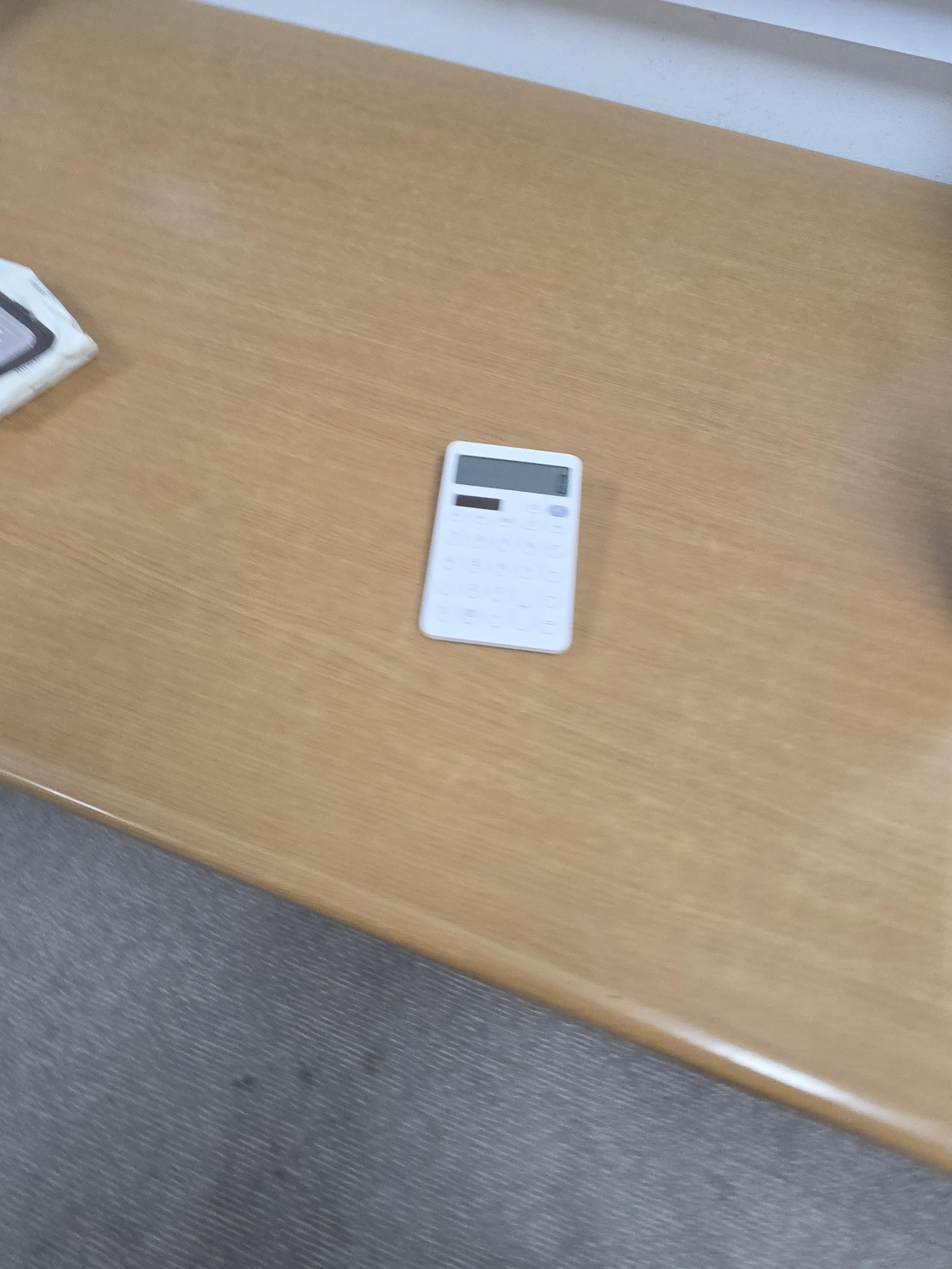calculator: (418, 440, 583, 654)
tissue: (0, 258, 99, 421)
